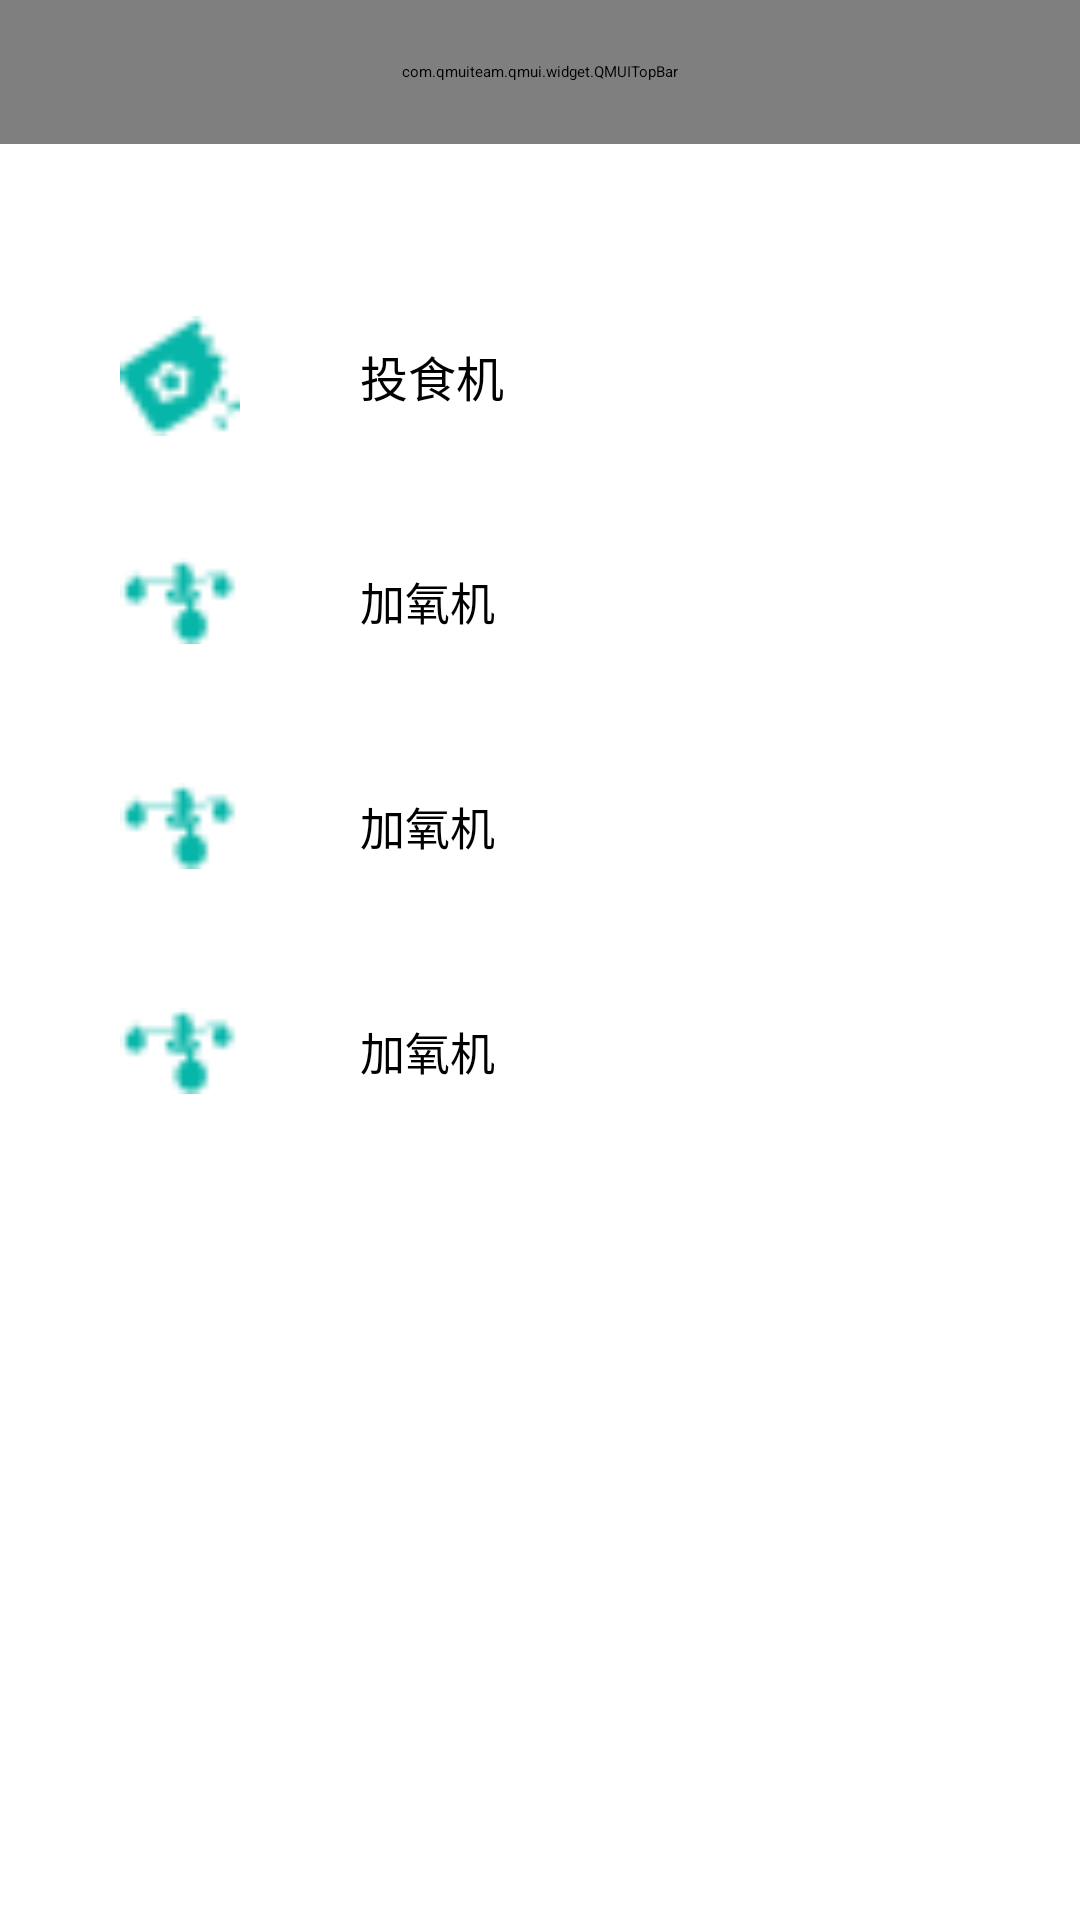

Locate icon controls on the screen. Image size 1080px x 1920px, boxes as (x1, y1, x2, y2).
food: (120, 316, 240, 436)
